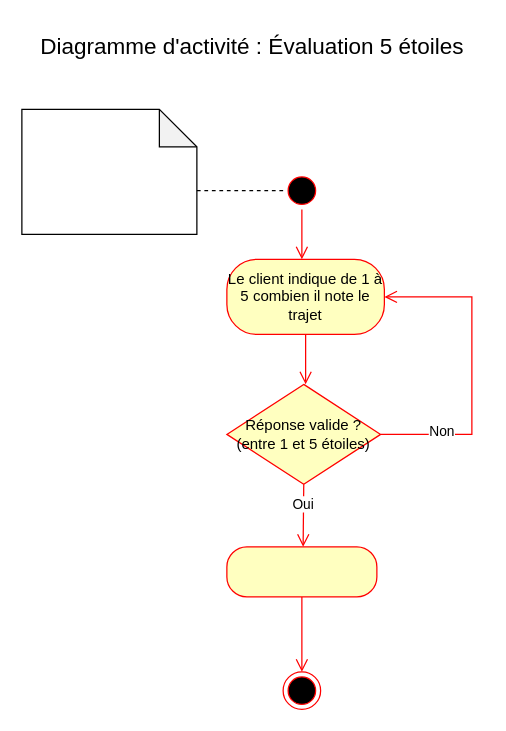
This 506x731 diagram has some shape labels left out. Here are the shapes that lost their labels. From the top down, the centre of each, then its label:
At point 109,171: "Après un trajet, l'application demande à l'utilisateur de noter sur 5 étoiles".
At point 301,571: "Envoie l'évaluation au chauffeur".
